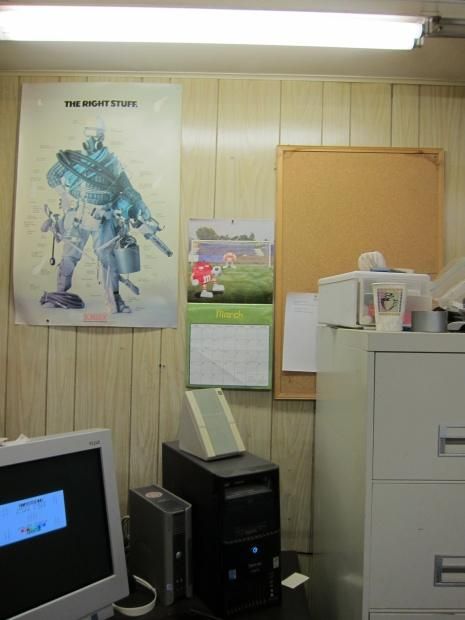AIO PC-Monitor-TV: (0, 427, 128, 619)
Filing Cabinet: (356, 331, 464, 619)
